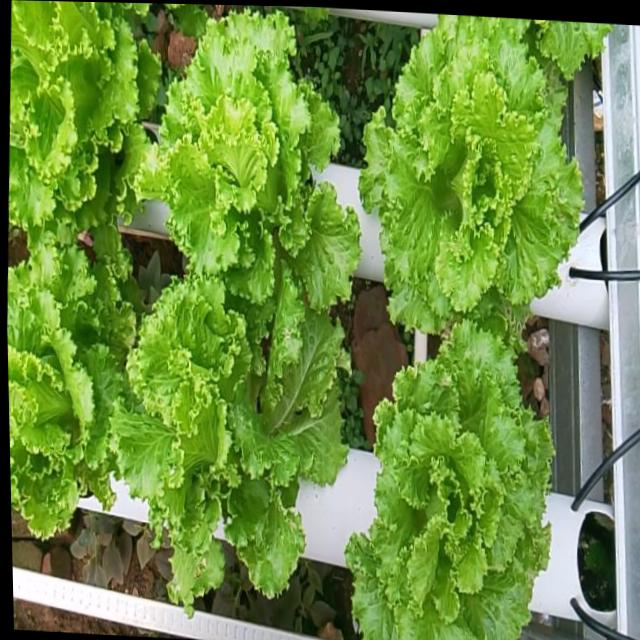Mature: (114, 271, 347, 630), (358, 14, 594, 333), (345, 315, 553, 640), (137, 8, 360, 308), (8, 0, 159, 258), (7, 242, 135, 535)
